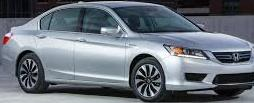Cars: (5, 2, 254, 102)
